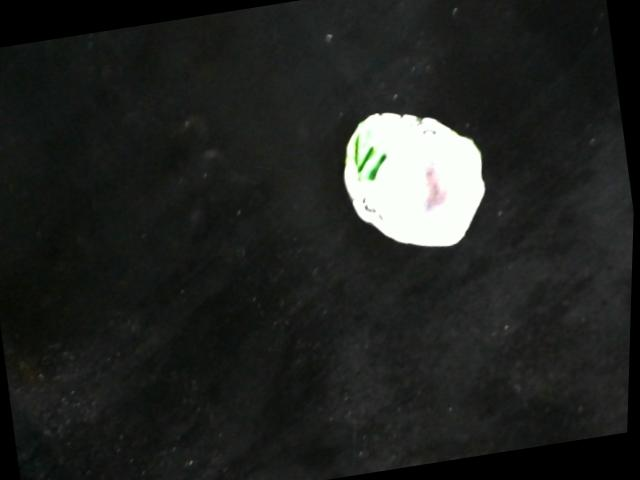can: (344, 103, 500, 254)
